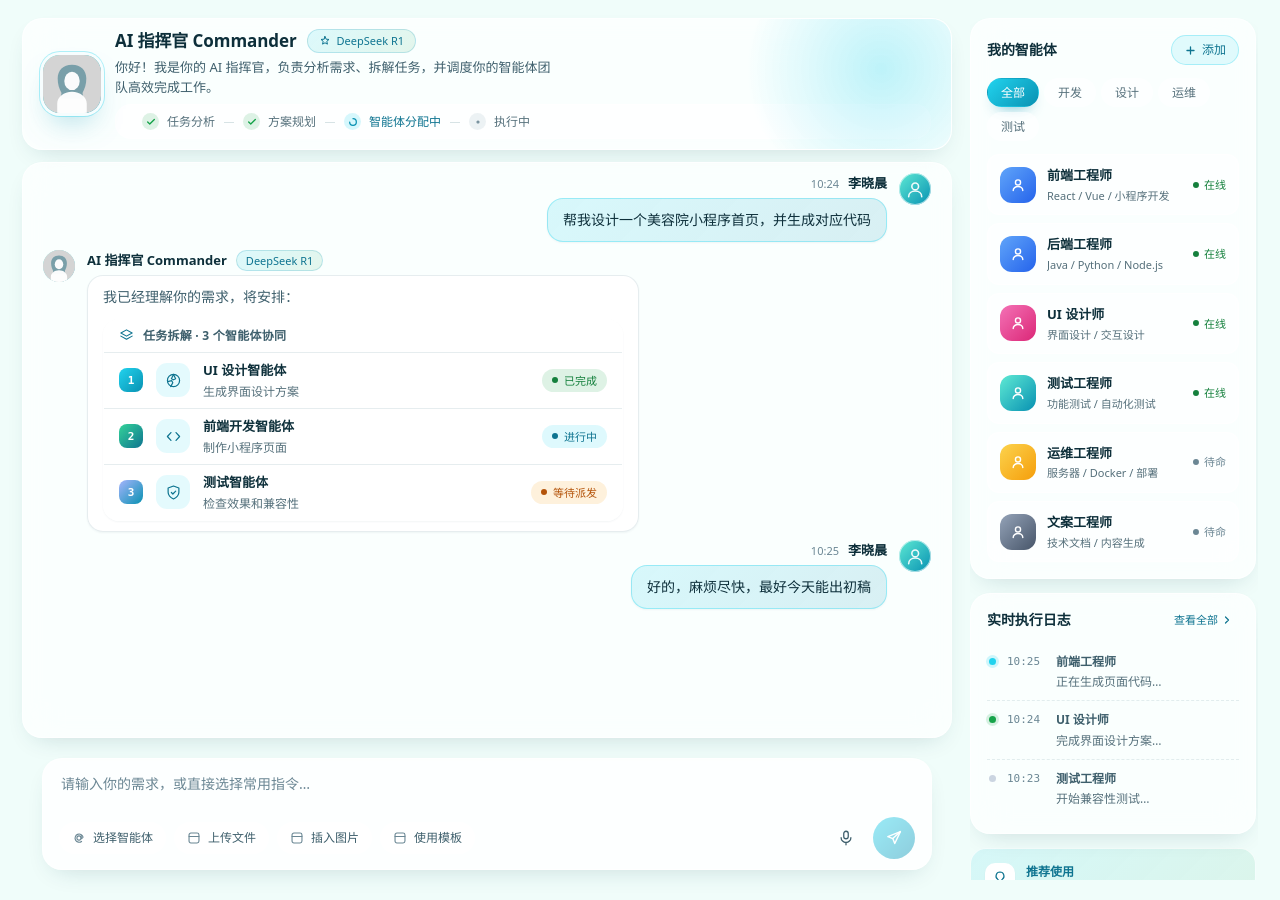
Test: sending from the composer appends both turns
Expected: the heading "AI 指挥官 Commander" is shown, [115,30,296,52]
Click the text box labelled "输入你的需求" at (487, 787), box [59,771,915,803]
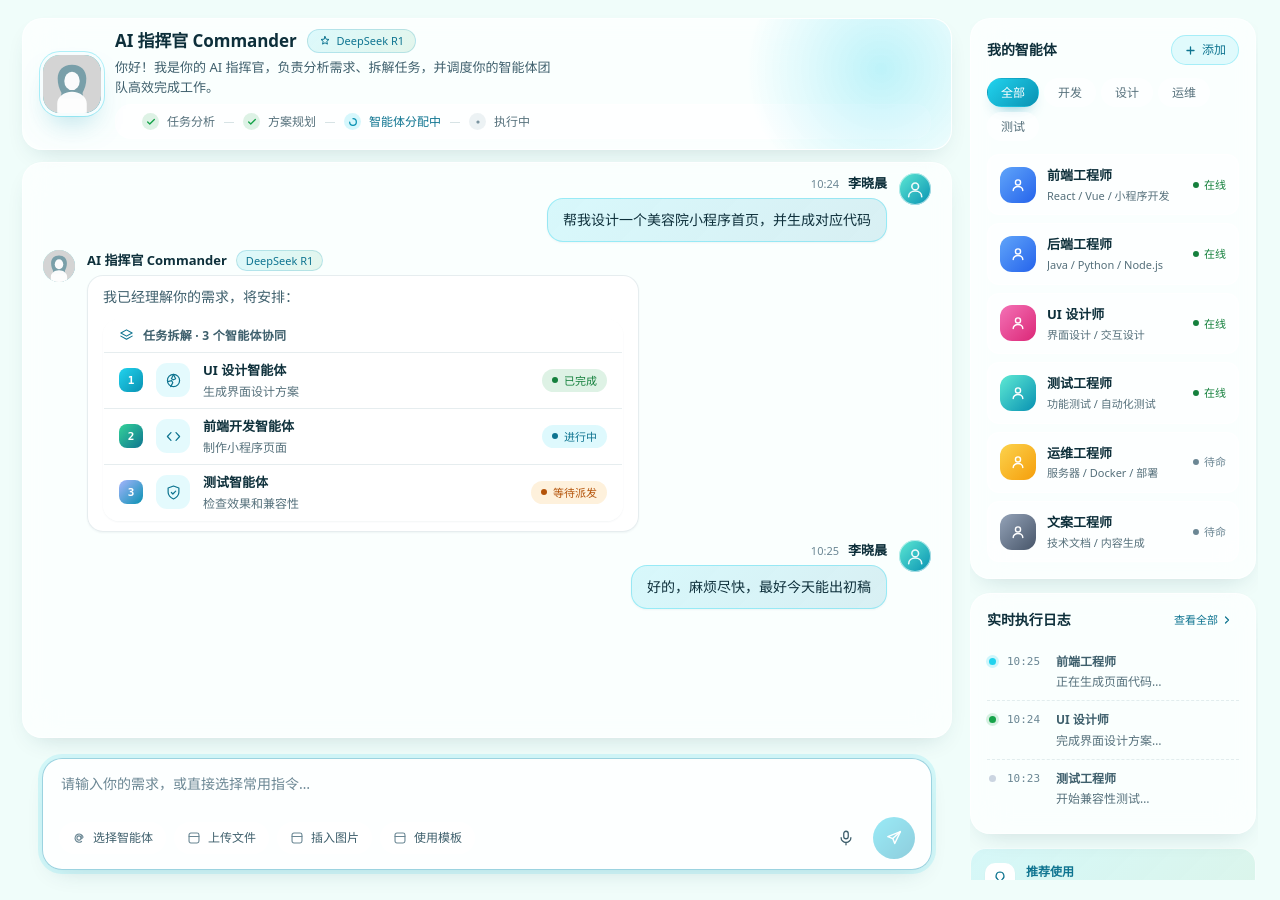
Type keys "再加一个会员中心入口"
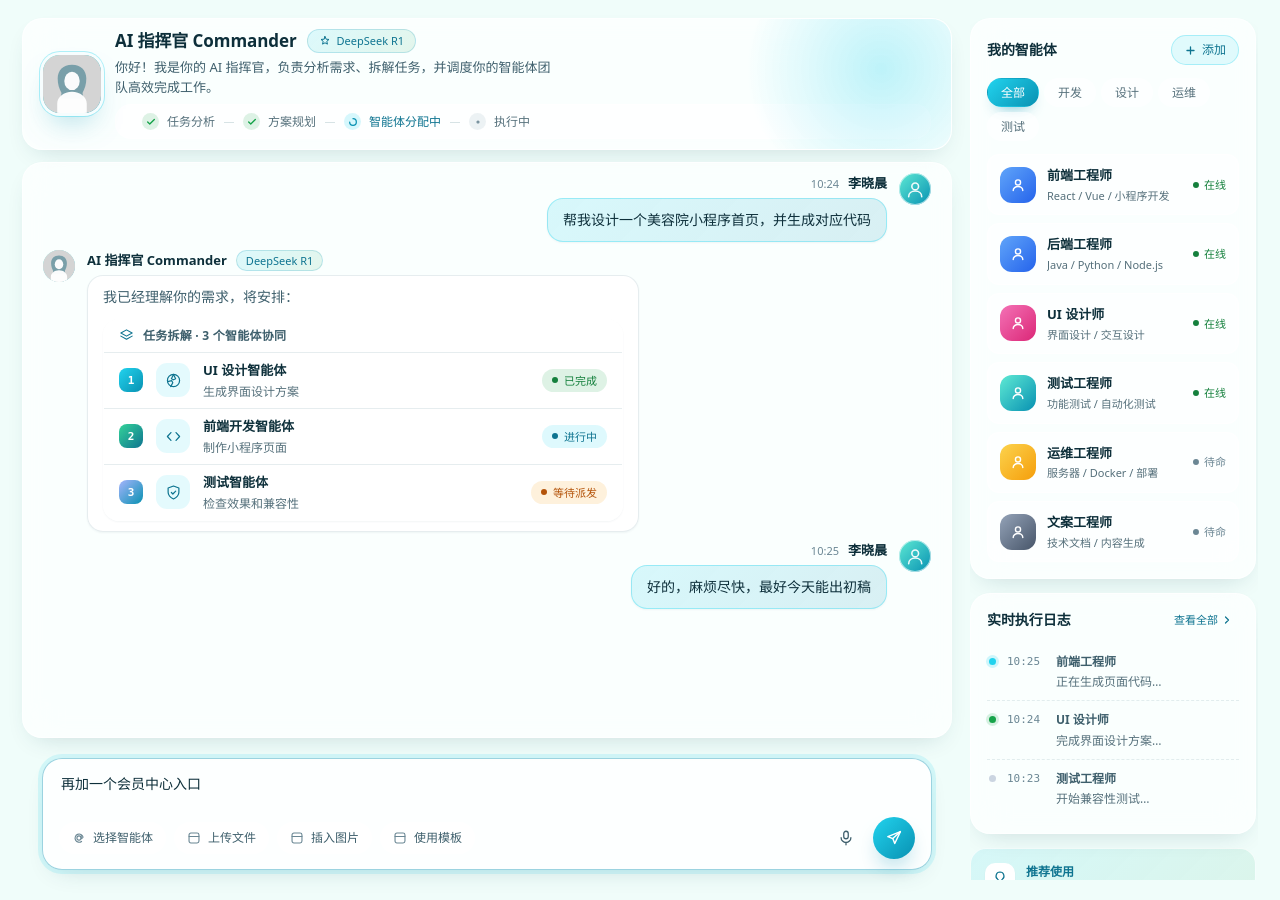
Press Enter
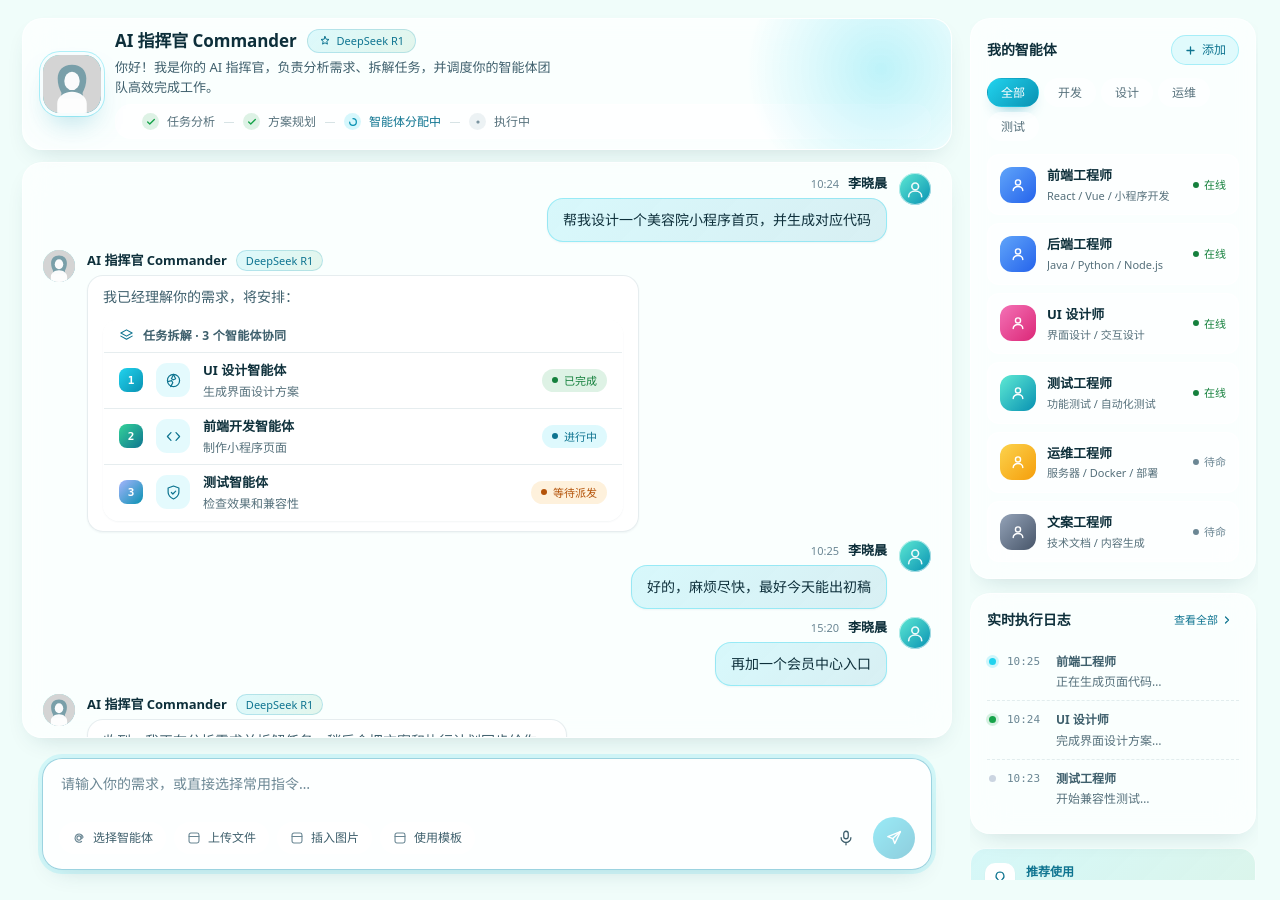
Now the text "再加一个会员中心入口" is shown, box [715,642,887,686]
